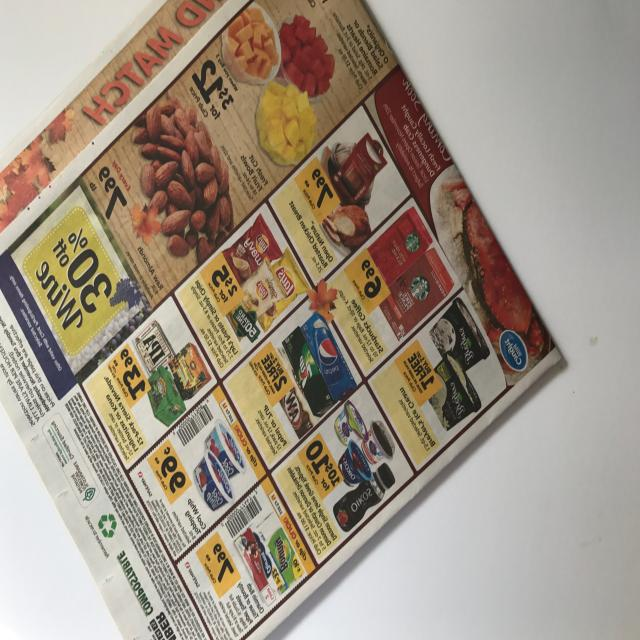paper: (0, 9, 634, 640)
